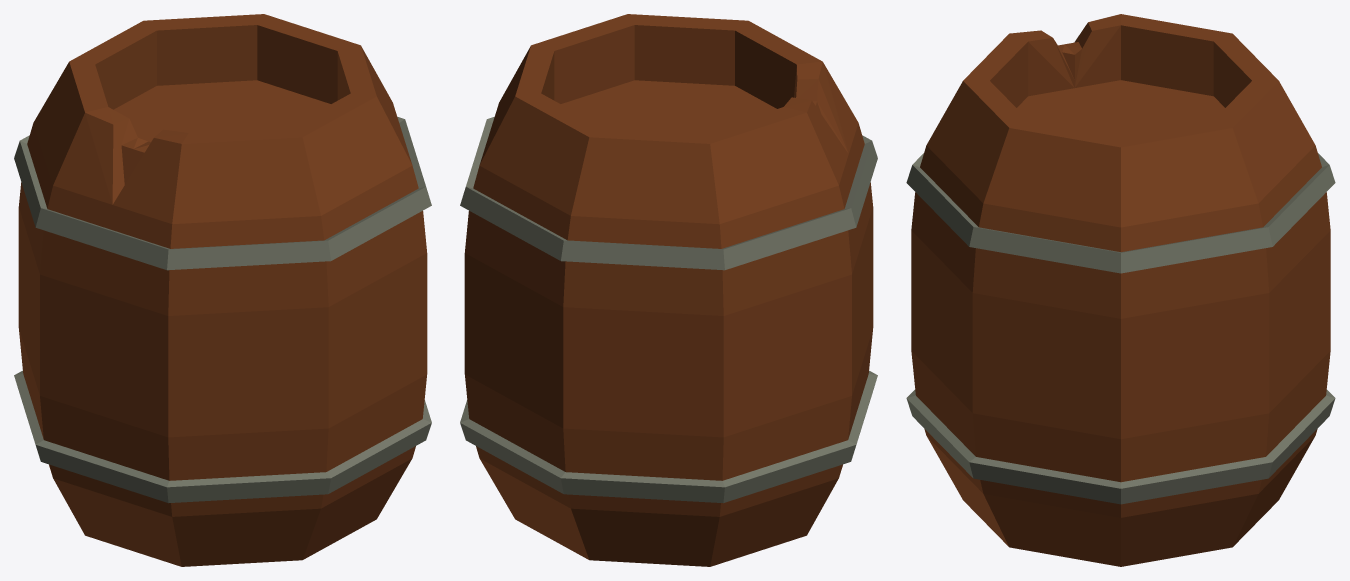
Rendered from Barrel_Wood.FBX.
The picture shows the model from 3 angles, left to right: view 1: azimuth 30°, elevation 25°; view 2: azimuth 150°, elevation 25°; view 3: azimuth 270°, elevation 25°; orthographic projection.
Parts seen in each view (by area): view 1: Cylinder001; view 2: Cylinder001; view 3: Cylinder001.
Boxes of the visible parts, x1,y1,x2,y2 form: Cylinder001: [14, 14, 431, 566]; Cylinder001: [460, 14, 877, 566]; Cylinder001: [906, 14, 1335, 566].
Size of the model in its own units: 100 by 108 by 100.
